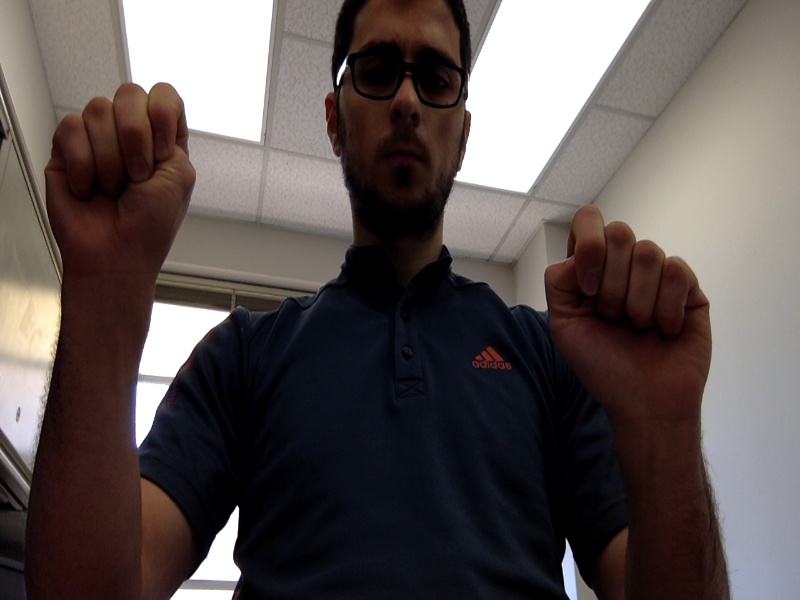0-hand: (547, 206, 712, 432), (47, 84, 194, 287)
